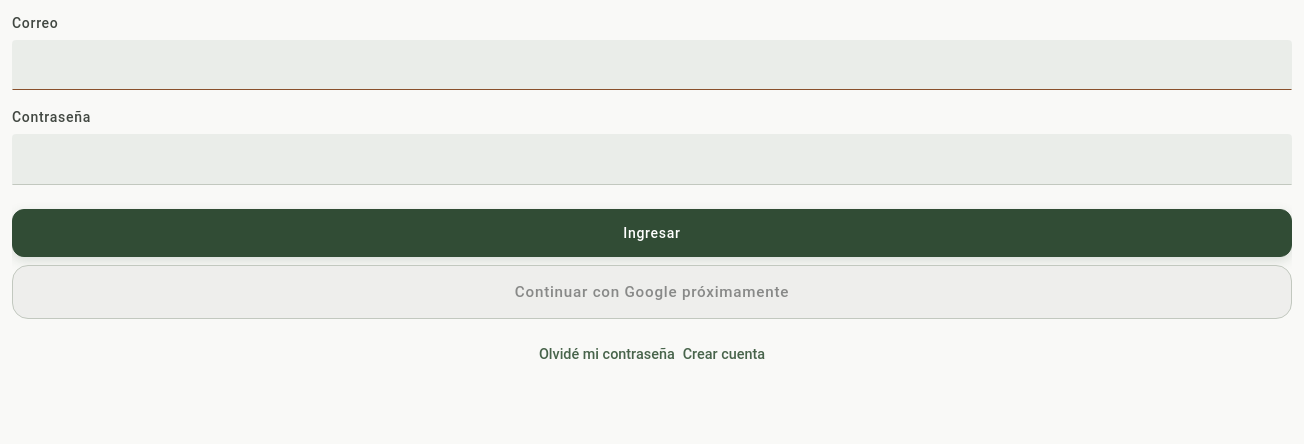
Test: LoginForm › shows generic retry timing and prevents resubmission when the credentials flow is rate limited
Type "tuli@example.com" into the field labelled "Correo".
click(652, 65); type("tuli@example.com")  # box [12,40,1292,90]
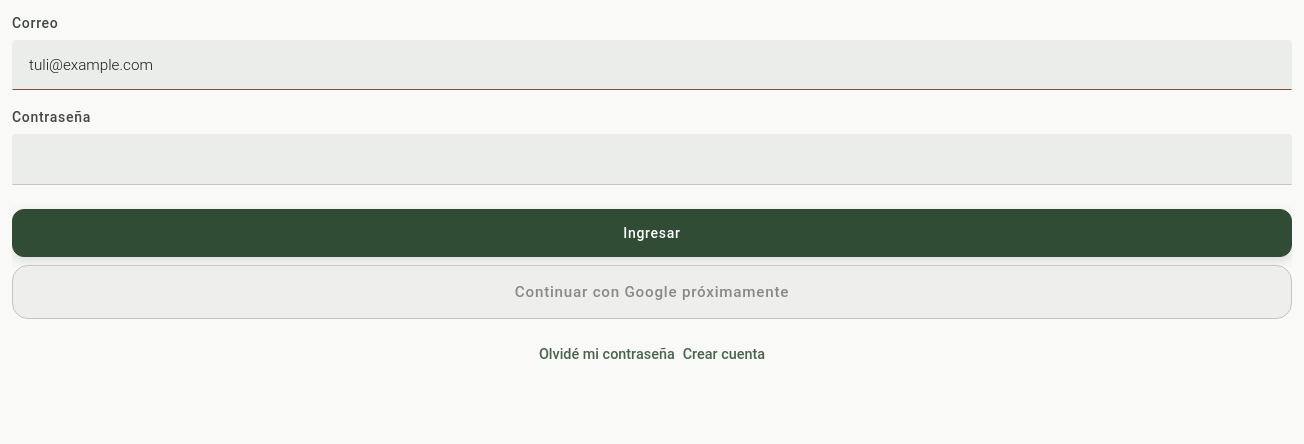
Type "secret123" into the password field labelled "Contraseña".
click(652, 160); type("secret123")  # box [12,134,1292,185]
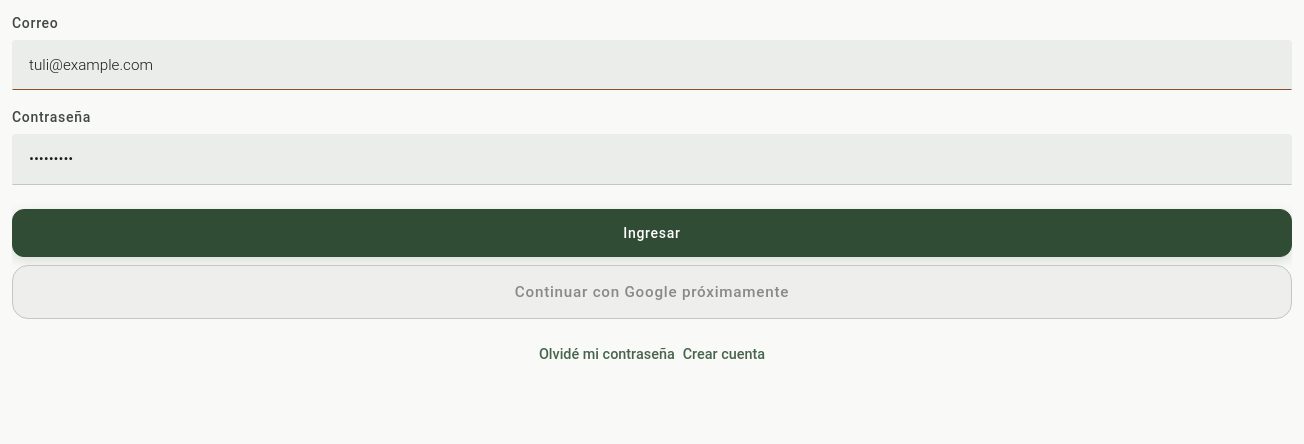
Click the button "Ingresar".
click(652, 233)  # box [12,209,1292,257]
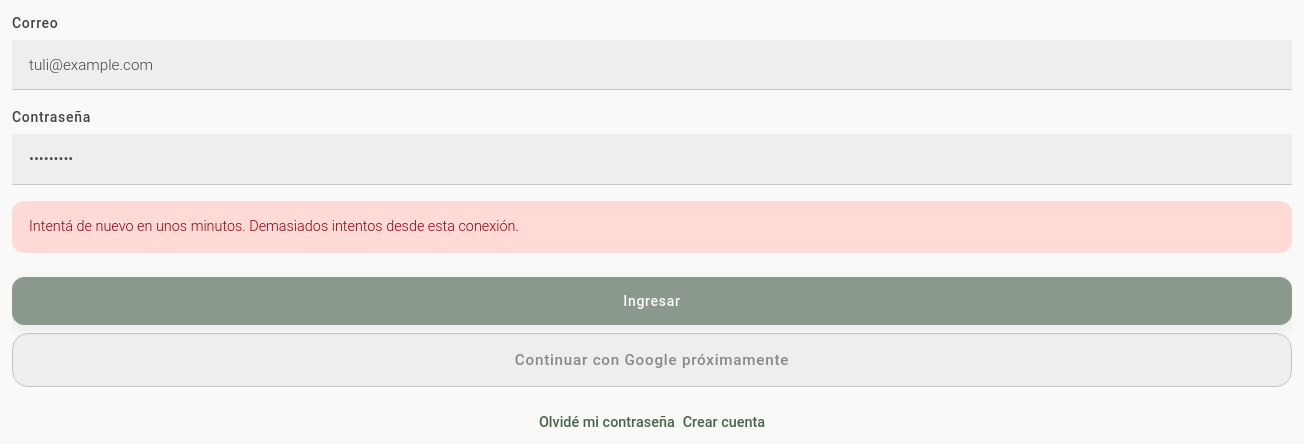
expect the text "Intentá de nuevo en unos minutos. Demasiados intentos desde esta conexión." is shown: met, box [29,215,519,238]
expect the button "Ingresar" is disabled: met, box [12,277,1292,326]
expect the field labelled "Correo" is disabled: met, box [12,40,1292,90]
